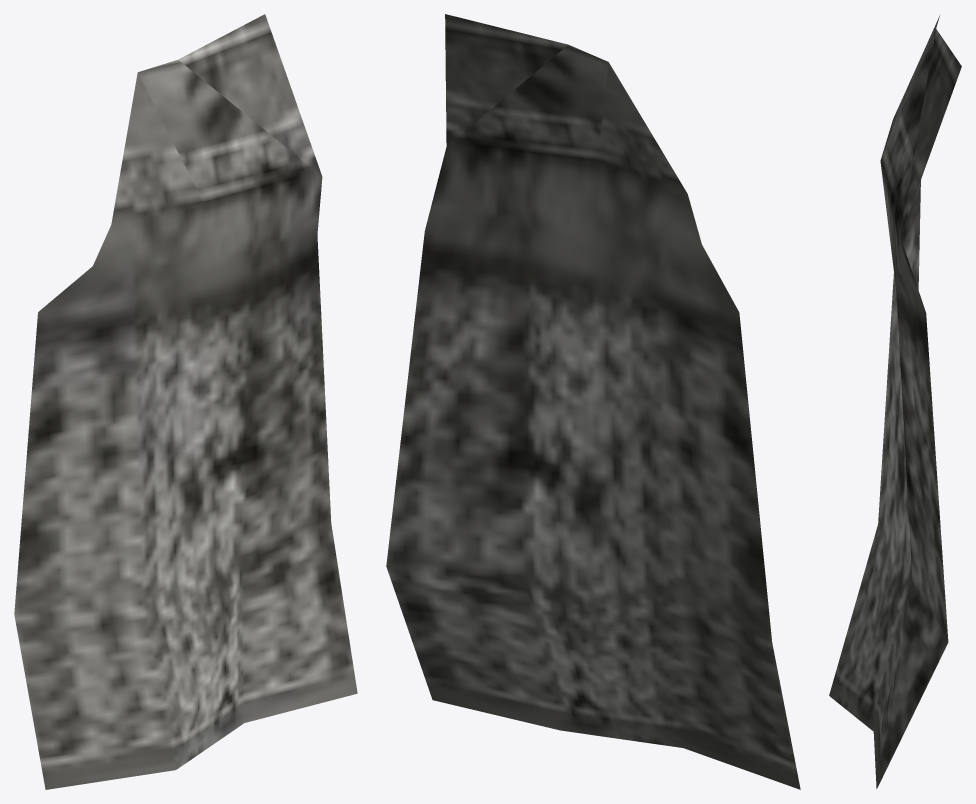
3 views of the same model, side by side, from view 1: azimuth 30°, elevation 25°; view 2: azimuth 150°, elevation 25°; view 3: azimuth 270°, elevation 25° (orthographic). The views are drawn at different scales.
Parts seen in each view (by area): view 1: np1591; view 2: np1591; view 3: np1591.
Boxes of the visible parts, x1,y1,x2,y2 form: np1591: [14, 14, 357, 789]; np1591: [386, 14, 800, 789]; np1591: [829, 15, 961, 788].
Size of the model in its own units: 56.62 by 109 by 18.61.
